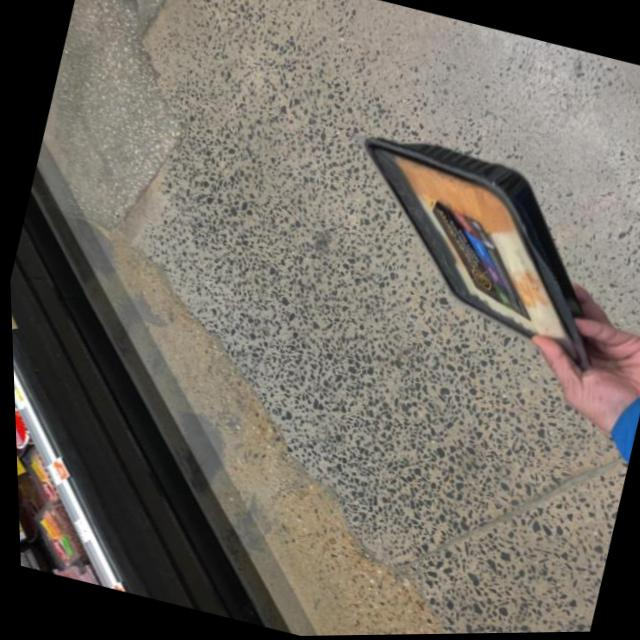Cheese: (324, 125, 630, 366)
